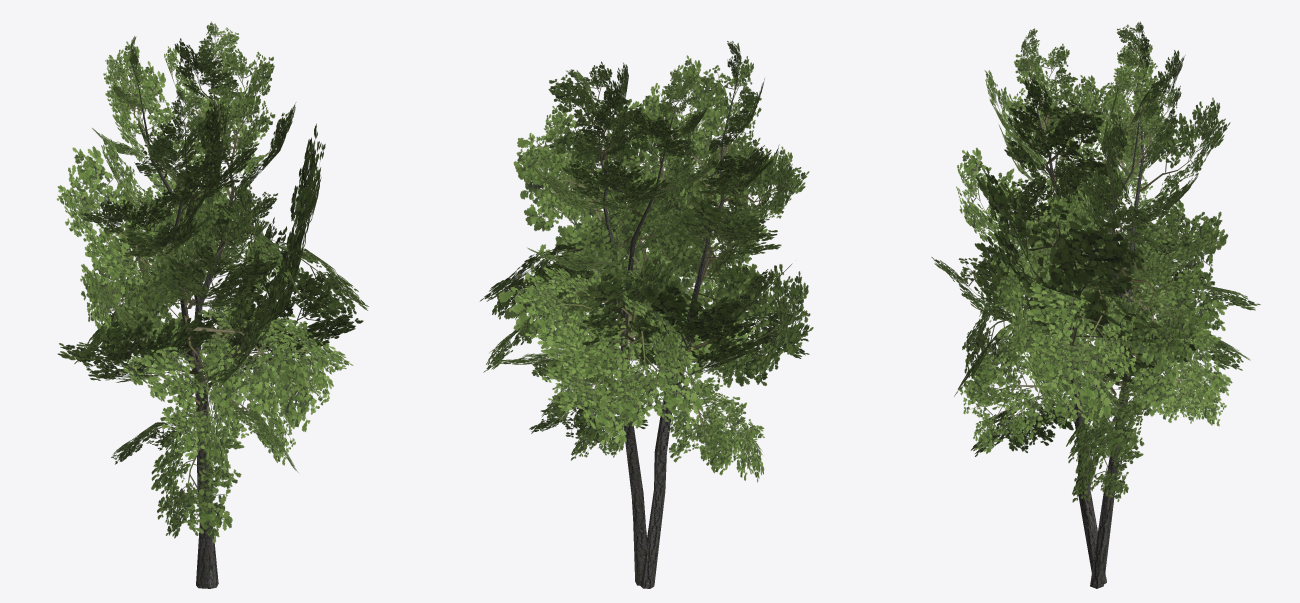
The model's file is tree1.glb.
3 views of the same model, side by side, from view 1: azimuth 30°, elevation 25°; view 2: azimuth 150°, elevation 25°; view 3: azimuth 270°, elevation 25° (orthographic).
Visible parts, largest first — view 1: Tree-03-1; view 2: Tree-03-1; view 3: Tree-03-1.
Part boxes in pixels (bbox=[...]): Tree-03-1: bbox=[56, 21, 368, 588]; Tree-03-1: bbox=[480, 41, 813, 588]; Tree-03-1: bbox=[931, 21, 1260, 588].
Bounding box in the file's own units: 6 × 8.78 × 5.73.
3 materials, 3 textured.
